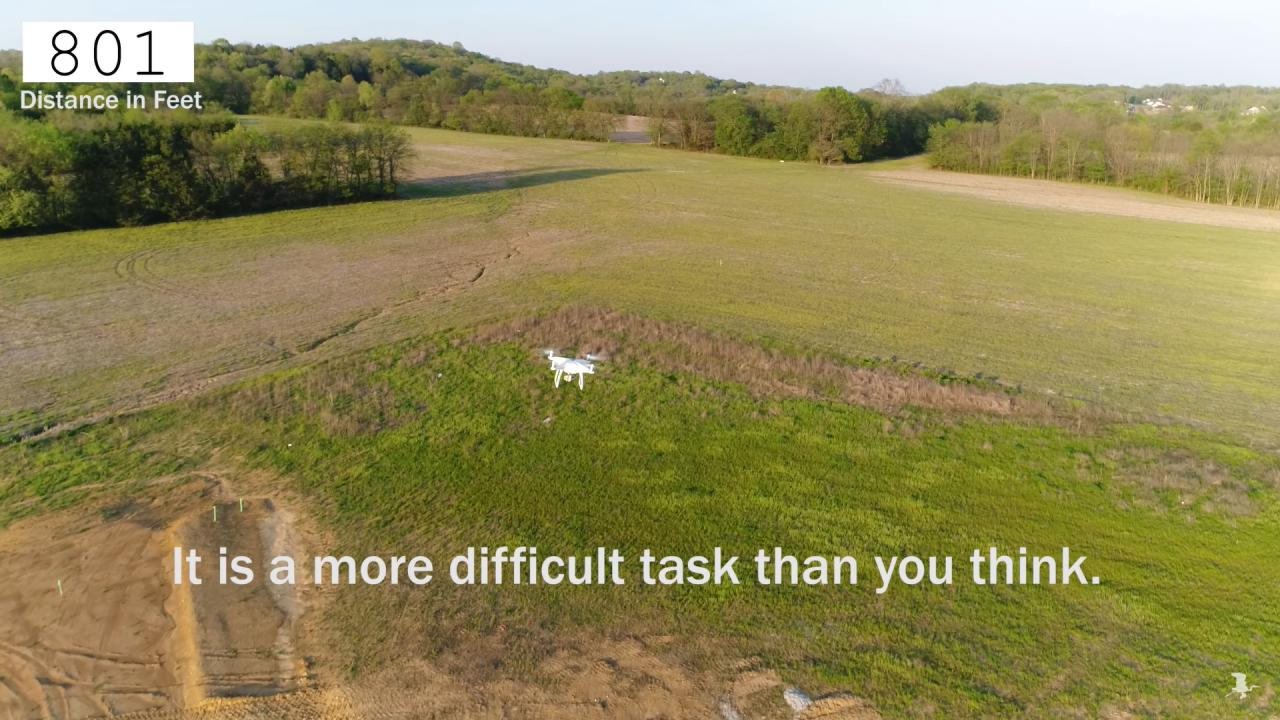Drone: (530, 341, 616, 399)
